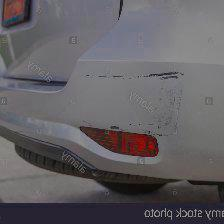bumper_scratch: (76, 62, 196, 140)
